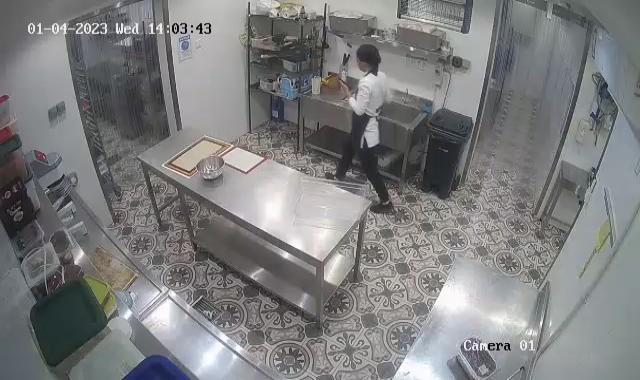no_hairnet: (358, 45, 385, 73)
